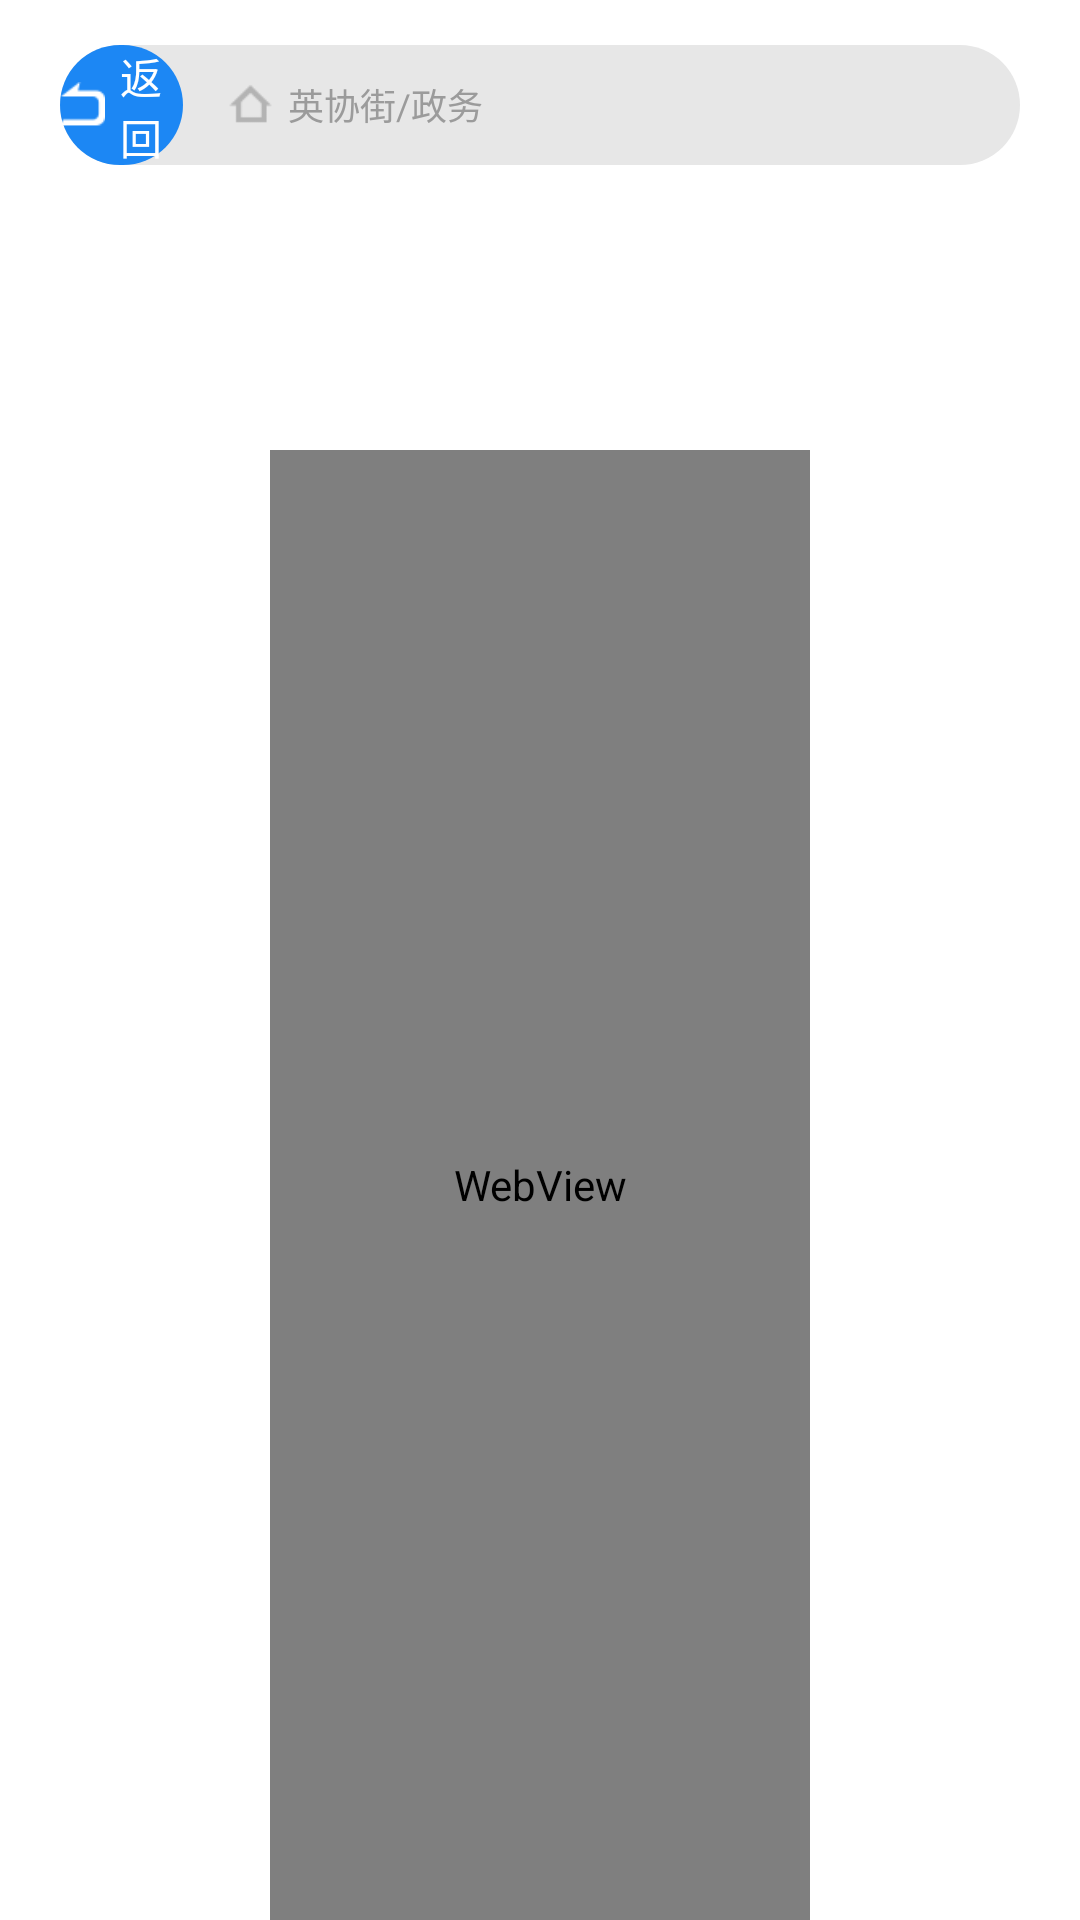

Where to tap for icons on this 1080w x 1920h app screen, as (x=x, y=y):
crumb home: (x=250, y=104)
